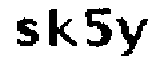5: (83, 5, 114, 50)
k: (46, 6, 79, 51)
s: (15, 18, 40, 48)
y: (115, 15, 150, 60)
